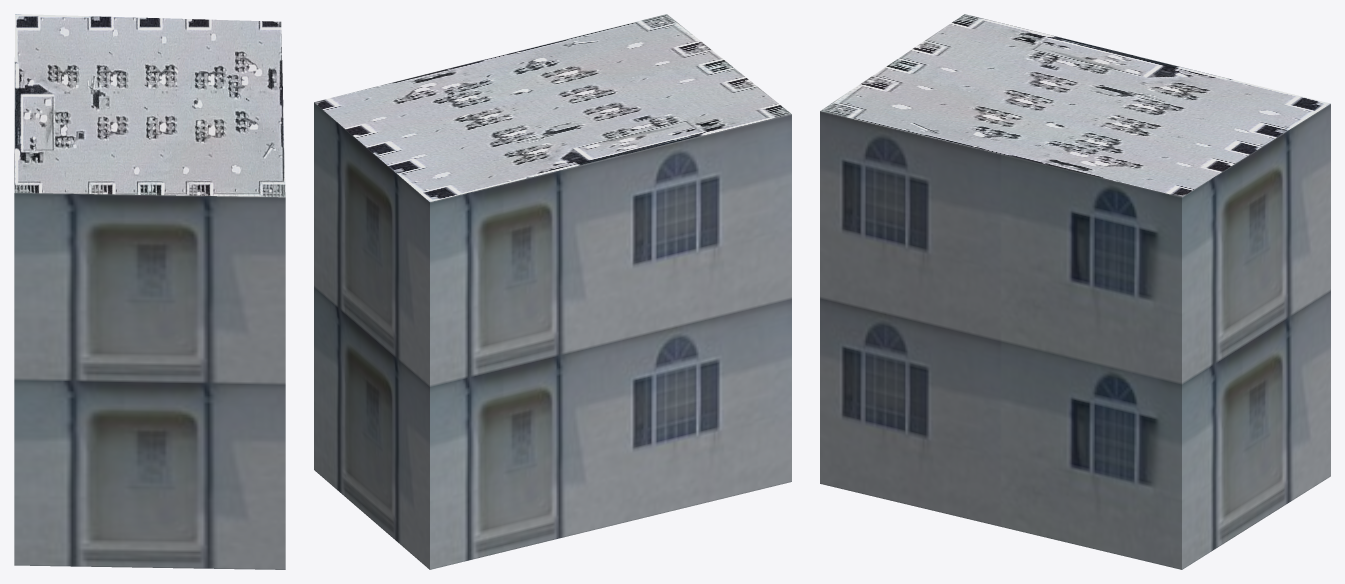
The model's file is ResTex__603.fbx.
3 renders of one model, left to right at view 1: azimuth 30°, elevation 25°; view 2: azimuth 150°, elevation 25°; view 3: azimuth 270°, elevation 25°, orthographic.
Visible parts, largest first — view 1: CityEngineMaterial_17_m, CityEngineMaterial_4_m; view 2: CityEngineMaterial_17_m, CityEngineMaterial_4_m; view 3: CityEngineMaterial_17_m, CityEngineMaterial_4_m.
Boxes of the visible parts, x1=… form: CityEngineMaterial_17_m: x1=14, y1=193, x2=285, y2=569; CityEngineMaterial_4_m: x1=14, y1=14, x2=285, y2=197; CityEngineMaterial_17_m: x1=314, y1=102, x2=791, y2=569; CityEngineMaterial_4_m: x1=314, y1=14, x2=791, y2=201; CityEngineMaterial_17_m: x1=820, y1=104, x2=1330, y2=569; CityEngineMaterial_4_m: x1=820, y1=14, x2=1330, y2=196.
Bounding box in the file's own units: 6.33 × 6 × 7.45.
2 materials, 2 textured.
